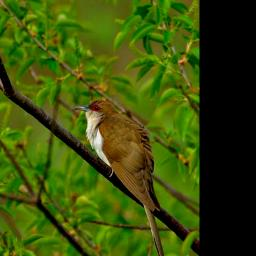Cuckoo: (74, 96, 167, 256)
